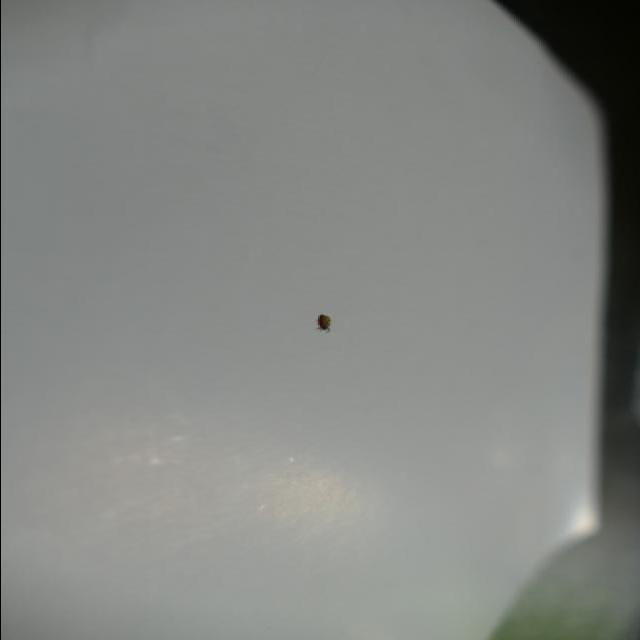Ixodes Ricinus-F: (317, 314, 332, 332)
